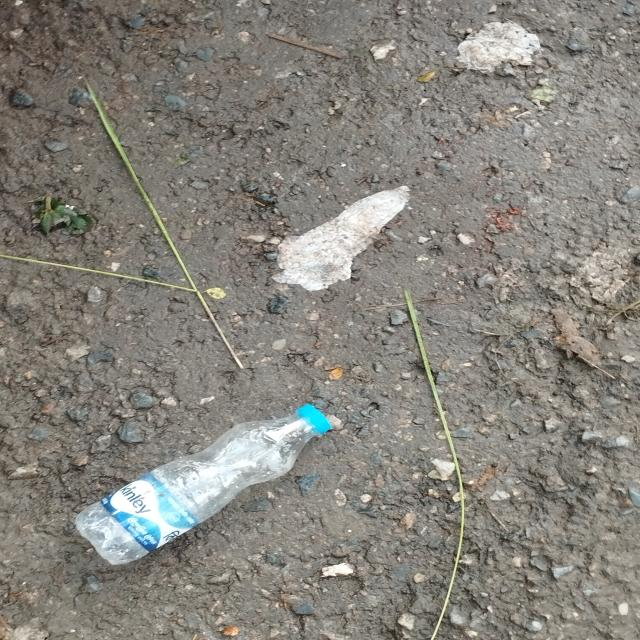plastic: (76, 396, 335, 568)
